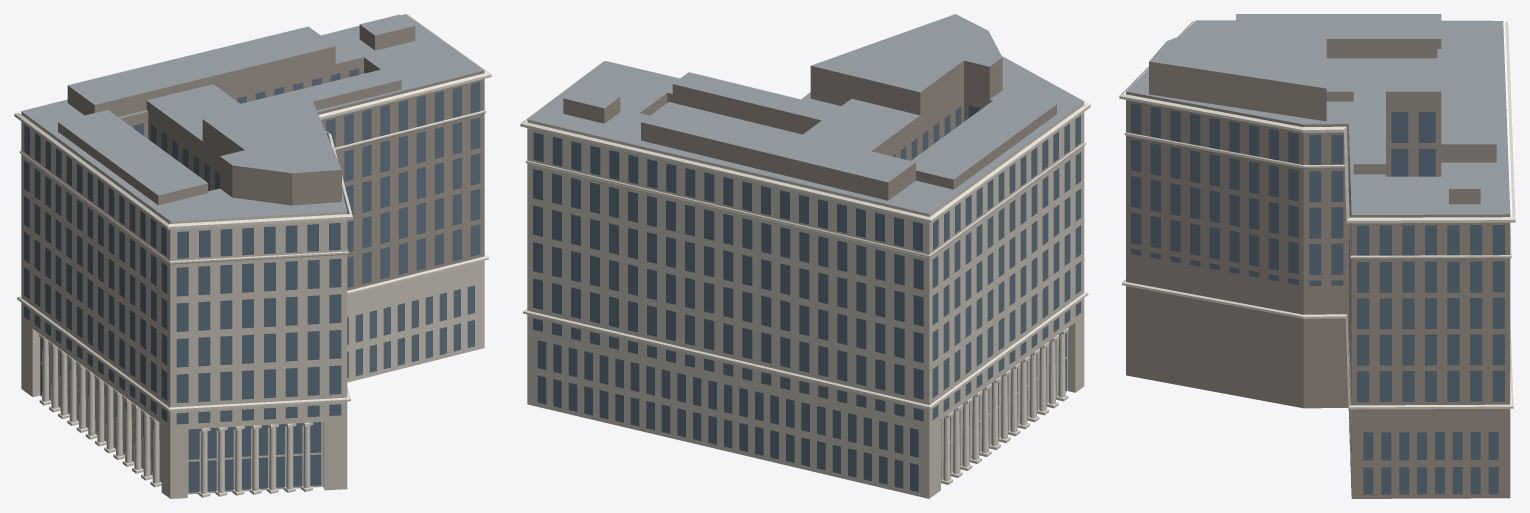
The model's file is cle-huntington-bank-building.glb.
3 renders of one model, left to right at view 1: azimuth 30°, elevation 25°; view 2: azimuth 150°, elevation 25°; view 3: azimuth 270°, elevation 25°, orthographic. The views are drawn at different scales.
Parts seen in each view (by area): view 1: Huntington Bank Building; view 2: Huntington Bank Building; view 3: Huntington Bank Building.
Boxes of the visible parts, x1=… form: Huntington Bank Building: x1=14, y1=14, x2=491, y2=498; Huntington Bank Building: x1=520, y1=14, x2=1090, y2=498; Huntington Bank Building: x1=1119, y1=14, x2=1515, y2=498.
Size of the model in its own units: 119 by 88.5 by 100.
